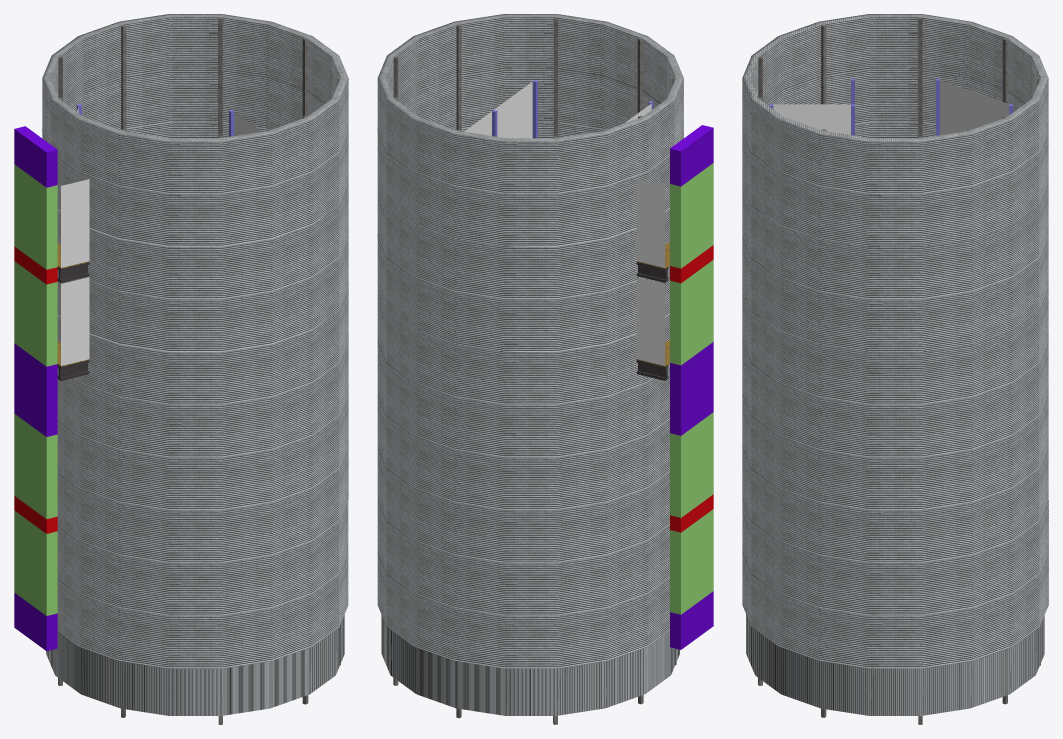
File: Building_TST_2t.glb
The picture shows the model from 3 angles, left to right: view 1: azimuth 30°, elevation 25°; view 2: azimuth 150°, elevation 25°; view 3: azimuth 270°, elevation 25°; orthographic projection.
Visible parts, largest first — view 1: Cylinder.008, Cylinder.003, Cylinder.007, Cylinder.001, Cylinder.002, SM_Wall_2m_Solid.039, SM_Wall_2m_Solid.034, SM_Wall_2m_Solid.036, SM_Wall_2m_Solid.041, Wall_1m.407, Wall_1m.413, SM_Wall_2m_Solid.037 (+9 smaller); view 2: Cylinder.008, Cylinder.003, Cylinder.007, Cylinder.001, Cylinder.002, SM_Wall_2m_Solid.039, SM_Wall_2m_Solid.041, SM_Wall_2m_Solid.034, SM_Wall_2m_Solid.036, Wall_1m.406, Wall_1m.415, SM_Wall_2m_Solid.037 (+10 smaller); view 3: Cylinder.008, Cylinder.002, Cylinder.003, Cylinder.001, Cylinder.007, Wall_1m.405, Wall_1m.411, INT_Wall_2m_Solid.442.
Part boxes in pixels (<box>): Cylinder.008: <box>42,14,348,715</box>; Cylinder.003: <box>57,501,348,668</box>; Cylinder.007: <box>57,395,348,563</box>; Cylinder.001: <box>57,289,348,457</box>; Cylinder.002: <box>57,122,348,352</box>; SM_Wall_2m_Solid.039: <box>14,510,57,615</box>; SM_Wall_2m_Solid.034: <box>14,261,57,366</box>; SM_Wall_2m_Solid.036: <box>14,164,57,269</box>; SM_Wall_2m_Solid.041: <box>14,414,57,519</box>; Wall_1m.407: <box>61,179,89,267</box>; Wall_1m.413: <box>61,277,89,365</box>; SM_Wall_2m_Solid.037: <box>14,126,57,187</box>; Cylinder.008: <box>377,14,683,715</box>; Cylinder.003: <box>377,500,669,668</box>; Cylinder.007: <box>377,395,669,562</box>; Cylinder.001: <box>377,289,669,457</box>; Cylinder.002: <box>377,122,669,352</box>; SM_Wall_2m_Solid.039: <box>670,509,713,614</box>; SM_Wall_2m_Solid.041: <box>670,412,713,517</box>; SM_Wall_2m_Solid.034: <box>670,260,713,365</box>; SM_Wall_2m_Solid.036: <box>670,163,713,268</box>; Wall_1m.406: <box>636,179,664,267</box>; Wall_1m.415: <box>636,277,664,365</box>; SM_Wall_2m_Solid.037: <box>670,125,713,186</box>; Cylinder.008: <box>742,14,1048,715</box>; Cylinder.002: <box>742,122,1048,352</box>; Cylinder.003: <box>742,500,1048,668</box>; Cylinder.001: <box>742,289,1048,457</box>; Cylinder.007: <box>742,395,1048,563</box>; Wall_1m.405: <box>940,80,1009,134</box>; Wall_1m.411: <box>773,104,850,134</box>; INT_Wall_2m_Solid.442: <box>918,17,922,137</box>.
Size of the model in its own units: 10.58 by 20.02 by 9.48.
Materials: 9 (4 with a texture image).
